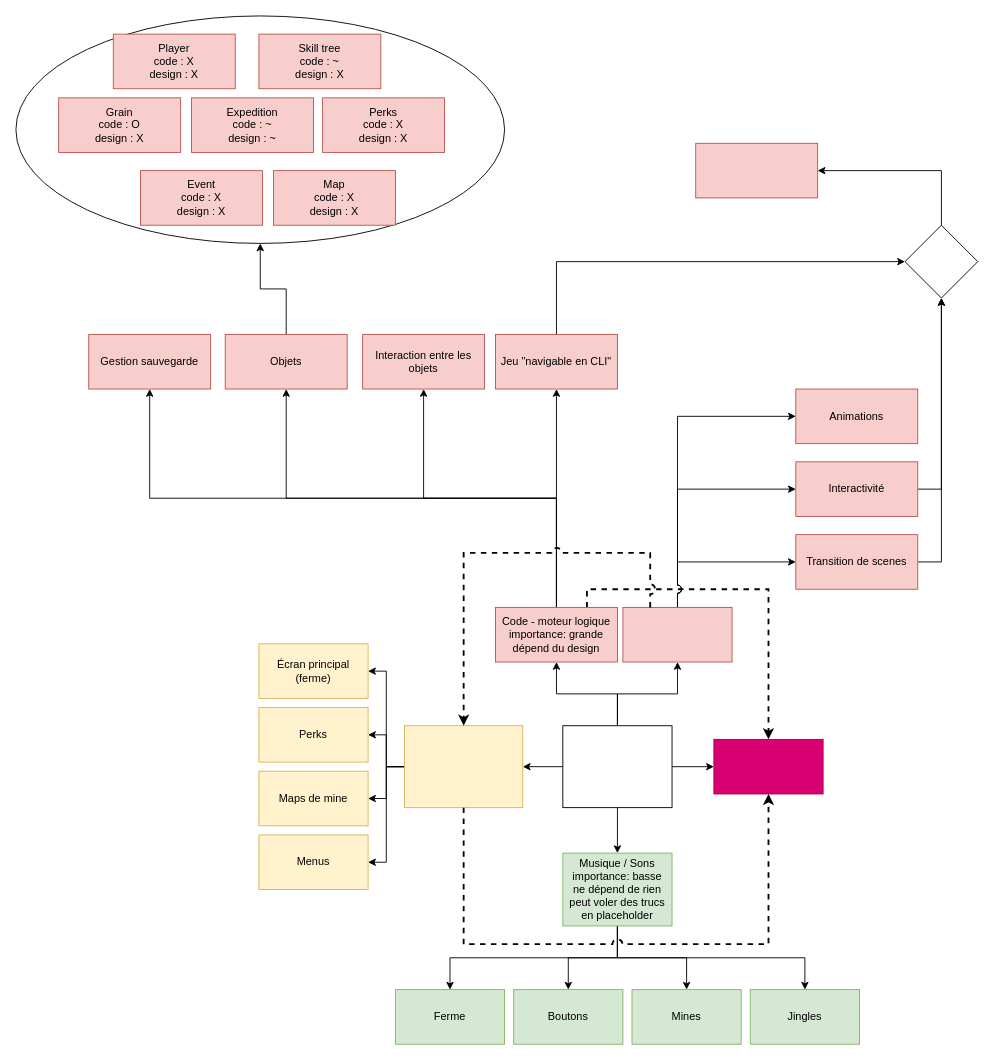
Image size: 994x1060. Some labels were removed from this diagram. Here are the shapes that lost their labels. From the top down, the centre of each, then its label:
the point at 756,170: Jeu navigable en graphique
the point at 677,634: Code - display importance: grande dépend des graphismes
the point at 463,766: Graphique Importance: moyenne dépend du design peut utiliser des placeholders
the point at 617,766: 4 Pôles: Graphique Musique Code Design
the point at 768,766: Design importande: critique ne dépend de rien
